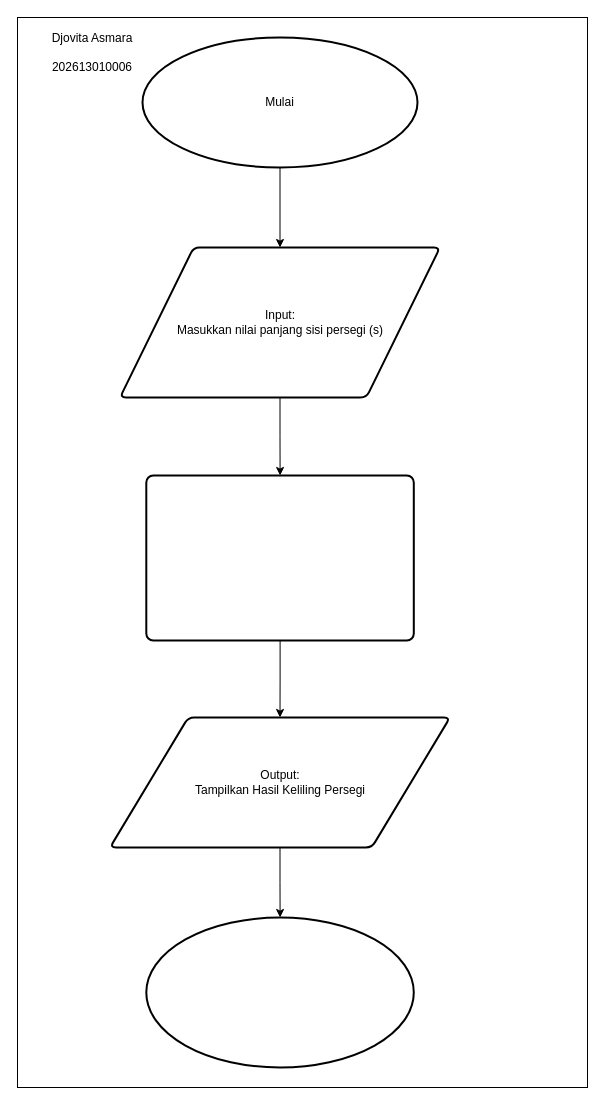
Image size: 605x1105. Some labels were removed from this diagram. Here are the shapes that lost their labels. From the top down, the centre of each, then its label:
At (x=279, y=557): "Proses Keliling = 4 x sisi".
At (x=279, y=992): "Selesai".
